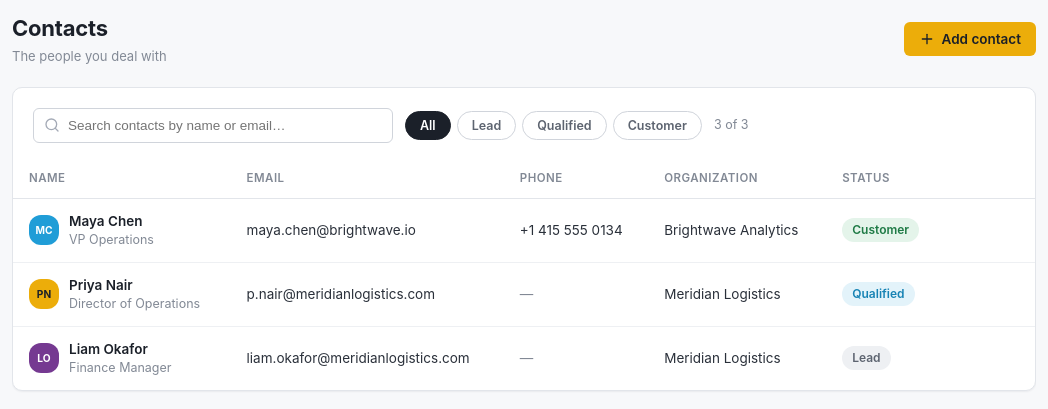
it: Contacts page › searches contacts by email
Expected: the text "Maya Chen" is shown, [69,211,154,231]
Type "liam.okafor@meridianlogistics.com" into the field labelled "Search contacts" at (213,125), box [33,108,393,142]
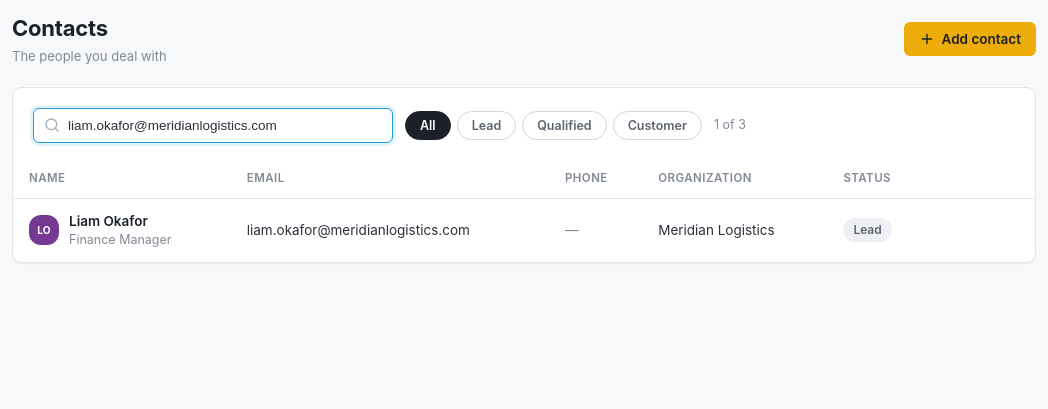
Expected: the text "Liam Okafor" is shown, [69,213,148,229]
Now the text "Maya Chen" is gone
